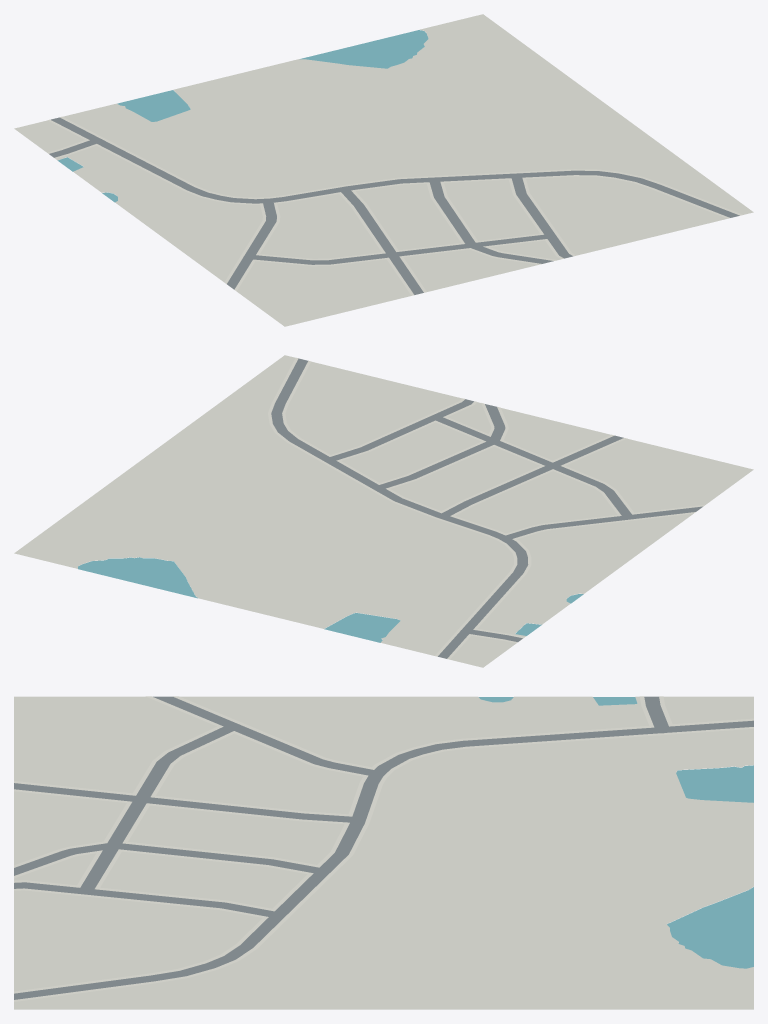
The picture shows the model from 3 angles, top to bottom: view 1: azimuth 30°, elevation 25°; view 2: azimuth 150°, elevation 25°; view 3: azimuth 270°, elevation 25°; orthographic projection. The views are drawn at different scales.
Parts seen in each view (by area): view 1: city; view 2: city; view 3: city.
Part boxes in pixels (x1,y1,x2,y2): city: [14, 14, 753, 326]; city: [14, 355, 753, 667]; city: [14, 696, 753, 1009].
Bounding box in the file's own units: 500 × 0.4 × 500.
